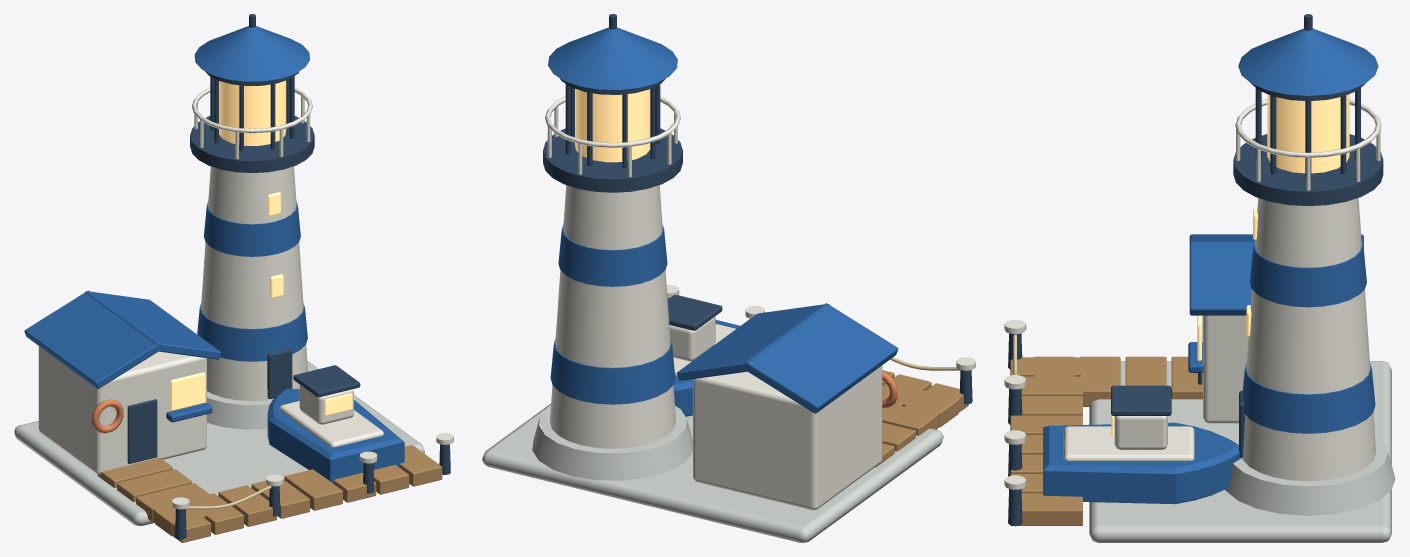
Rendered from contact-harbor.glb.
3 renders of one model, left to right at view 1: azimuth 30°, elevation 25°; view 2: azimuth 150°, elevation 25°; view 3: azimuth 270°, elevation 25°, orthographic. The views are drawn at different scales.
Parts seen in each view (by area): view 1: harbor-buildings-ivory, harbor-buildings-blue, harbor-ground-wood, harbor-ground-stone, harbor-buildings-dark, harbor-ground-blue, harbor-buildings-warm, harbor-ground-ivory, harbor-ground-dark, harbor-buildings-stone, harbor-buildings-red; view 2: harbor-buildings-ivory, harbor-buildings-blue, harbor-ground-stone, harbor-buildings-dark, harbor-buildings-stone, harbor-ground-wood, harbor-buildings-warm, harbor-ground-ivory, harbor-ground-dark, harbor-ground-blue; view 3: harbor-buildings-ivory, harbor-buildings-blue, harbor-ground-stone, harbor-ground-wood, harbor-ground-blue, harbor-buildings-dark, harbor-buildings-stone, harbor-ground-ivory, harbor-buildings-warm, harbor-ground-dark.
Part boxes in pixels (left/top/right/bottom): harbor-buildings-ivory: left=38, top=87, right=312, bottom=474; harbor-buildings-blue: left=24, top=26, right=310, bottom=422; harbor-ground-wood: left=97, top=445, right=442, bottom=542; harbor-ground-stone: left=14, top=361, right=424, bottom=525; harbor-buildings-dark: left=127, top=14, right=314, bottom=463; harbor-ground-blue: left=267, top=388, right=404, bottom=482; harbor-buildings-warm: left=170, top=80, right=286, bottom=410; harbor-ground-ivory: left=172, top=385, right=453, bottom=509; harbor-ground-dark: left=175, top=365, right=450, bottom=539; harbor-buildings-stone: left=207, top=362, right=315, bottom=429; harbor-buildings-red: left=92, top=399, right=123, bottom=433; harbor-buildings-ivory: left=545, top=96, right=882, bottom=509; harbor-buildings-blue: left=548, top=27, right=898, bottom=413; harbor-ground-stone: left=482, top=403, right=943, bottom=542; harbor-buildings-dark: left=543, top=14, right=682, bottom=192; harbor-buildings-stone: left=532, top=405, right=692, bottom=480; harbor-ground-wood: left=875, top=370, right=968, bottom=467; harbor-buildings-warm: left=575, top=88, right=650, bottom=162; harbor-ground-ivory: left=666, top=284, right=975, bottom=376; harbor-ground-dark: left=667, top=294, right=972, bottom=404; harbor-ground-blue: left=673, top=320, right=740, bottom=416; harbor-buildings-ivory: left=1203, top=99, right=1381, bottom=481; harbor-buildings-blue: left=1188, top=28, right=1378, bottom=433; harbor-ground-stone: left=1089, top=361, right=1391, bottom=542; harbor-ground-wood: left=1010, top=356, right=1202, bottom=525; harbor-ground-blue: left=1043, top=422, right=1241, bottom=504; harbor-buildings-dark: left=1198, top=14, right=1383, bottom=457; harbor-buildings-stone: left=1225, top=435, right=1395, bottom=515; harbor-ground-ivory: left=1004, top=320, right=1194, bottom=489; harbor-buildings-warm: left=1197, top=94, right=1349, bottom=361; harbor-ground-dark: left=1008, top=333, right=1171, bottom=526.
Size of the model in its own units: 1.68 by 2.19 by 1.62.
